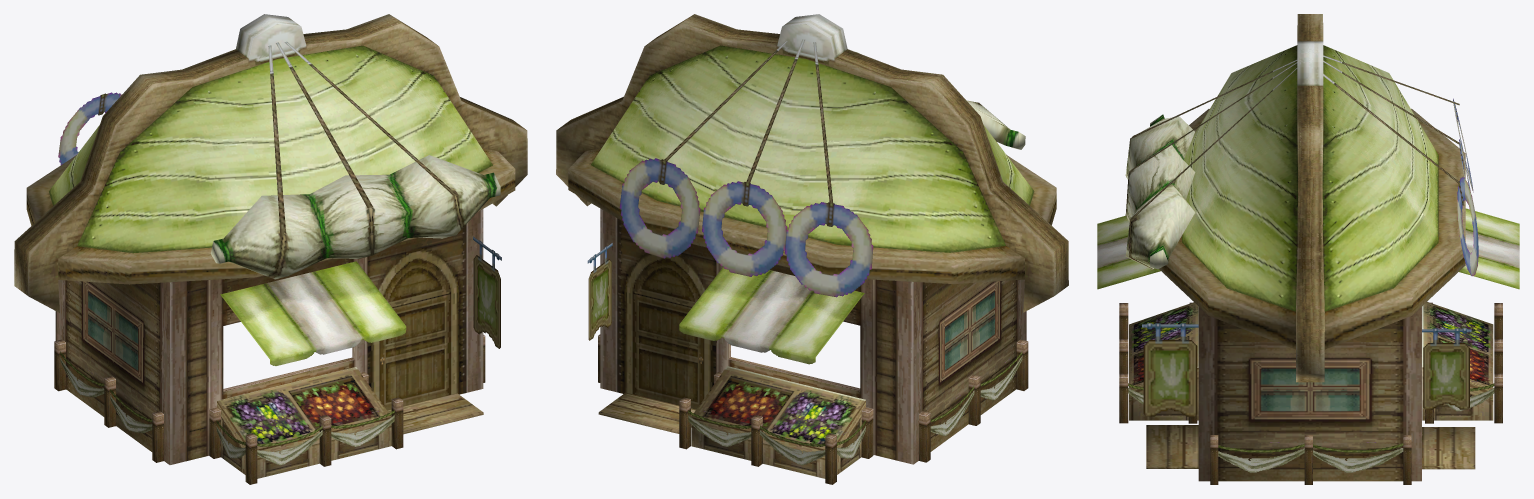
Rendered from nml-bd049.glb.
3 renders of one model, left to right at view 1: azimuth 30°, elevation 25°; view 2: azimuth 150°, elevation 25°; view 3: azimuth 270°, elevation 25°, orthographic.
Visible parts, largest first — view 1: geom_node_0; view 2: geom_node_0; view 3: geom_node_0.
Part boxes in pixels (bbox=[...]): geom_node_0: bbox=[14, 14, 527, 484]; geom_node_0: bbox=[556, 14, 1068, 484]; geom_node_0: bbox=[1097, 14, 1519, 484].
Bounding box in the file's own units: 6.13 × 4.31 × 4.55.
Materials: 2 (2 with a texture image).
